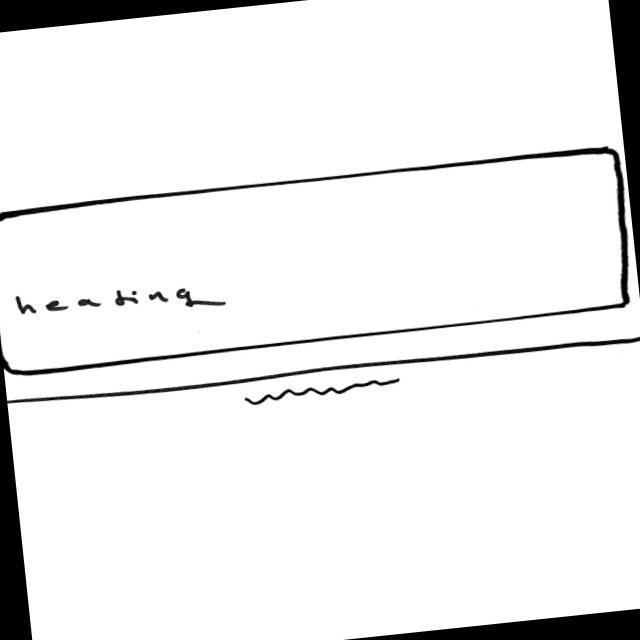container: (1, 144, 637, 378)
label: (17, 273, 229, 330)
text: (243, 376, 404, 409)
